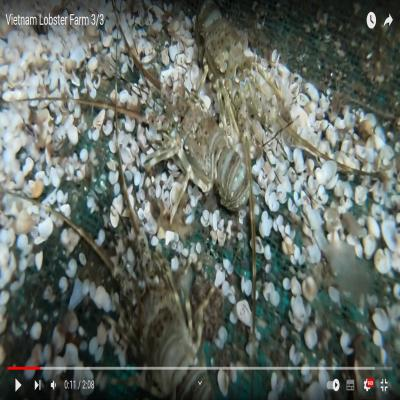lobster: (159, 91, 250, 213)
